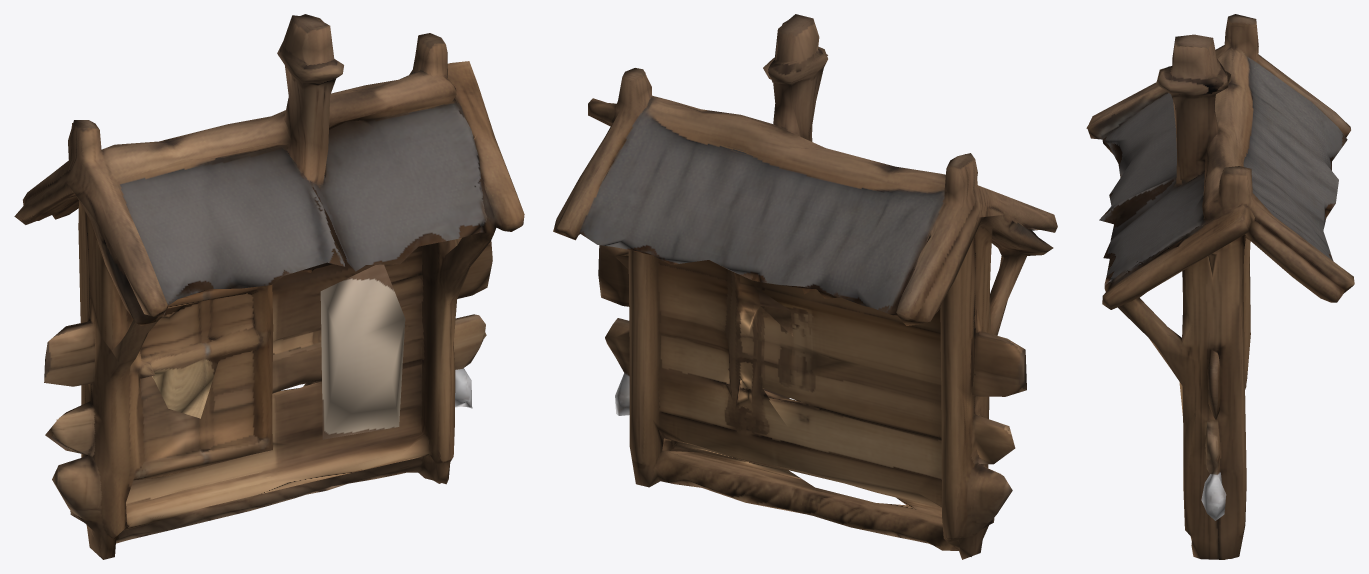
Rendered from noticeboard.glb.
3 views of the same model, side by side, from view 1: azimuth 30°, elevation 25°; view 2: azimuth 150°, elevation 25°; view 3: azimuth 270°, elevation 25° (orthographic). The views are drawn at different scales.
Parts seen in each view (by area): view 1: geometry_0; view 2: geometry_0; view 3: geometry_0.
Boxes of the visible parts, x1=… form: geometry_0: x1=14, y1=14, x2=524, y2=559; geometry_0: x1=553, y1=14, x2=1057, y2=559; geometry_0: x1=1086, y1=14, x2=1354, y2=559.
Bounding box in the file's own units: 0.9322 × 1 × 0.5316.
Materials: 1 (1 with a texture image).
